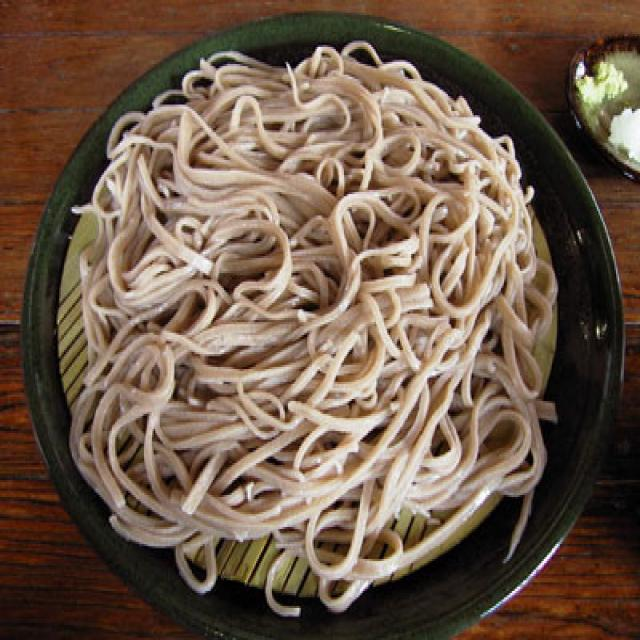面条主食: (21, 0, 632, 640)
